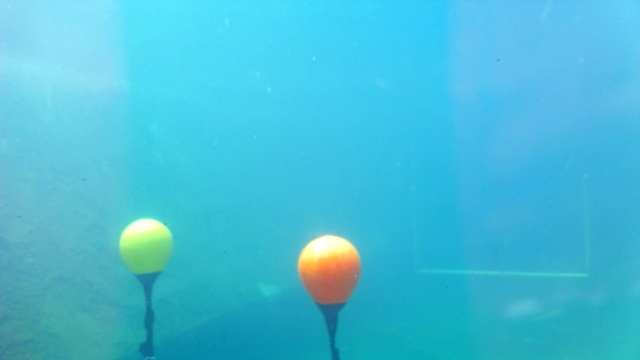buoy_red: (295, 234, 362, 315)
channel: (411, 175, 593, 280)
